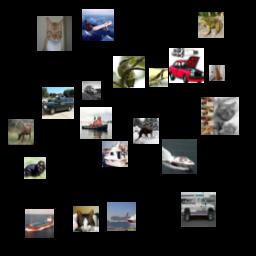airplane: (82, 9, 114, 41)
automobile: (169, 48, 204, 83), (42, 87, 74, 119)
bird: (113, 56, 145, 88), (149, 68, 168, 87)
cat: (201, 97, 239, 135), (37, 16, 72, 51), (73, 206, 99, 232), (209, 65, 225, 81)
deer: (8, 119, 34, 145), (133, 118, 159, 144)
dog: (24, 157, 46, 179)
frog: (198, 12, 224, 38)
ship: (162, 139, 197, 174), (80, 107, 112, 139), (107, 202, 136, 231), (25, 209, 54, 238), (102, 141, 128, 167)
truck: (181, 192, 216, 227), (82, 81, 101, 100)
